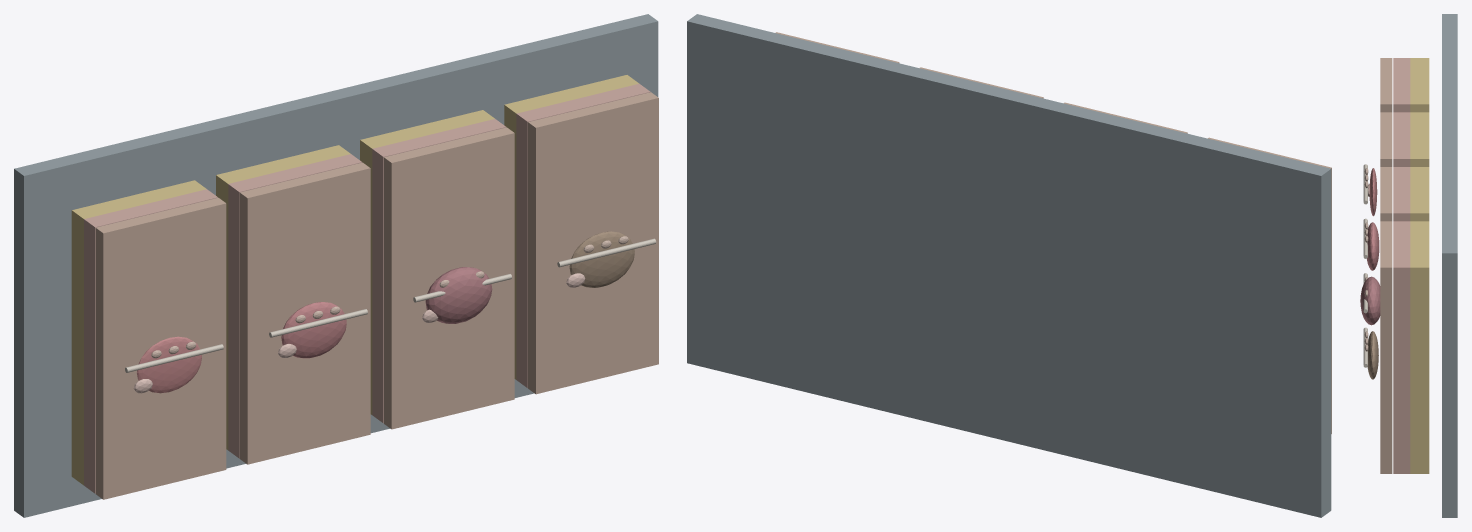
Rendered from wound-samples-high.glb.
3 views of the same model, side by side, from view 1: azimuth 30°, elevation 25°; view 2: azimuth 150°, elevation 25°; view 3: azimuth 270°, elevation 25° (orthographic). The views are drawn at different scales.
Parts seen in each view (by area): view 1: sample_board, skin_sample_1, skin_sample_2, skin_sample_4, skin_sample_3, hypodermis_layer_1, dermis_layer_1, dermis_layer_3, dermis_layer_4, dermis_layer_2, visual_change_3, hypodermis_layer_4 (+5 smaller); view 2: sample_board; view 3: sample_board, hypodermis_layer_4, dermis_layer_4, skin_sample_4, hypodermis_layer_2, hypodermis_layer_1, hypodermis_layer_3, dermis_layer_2, dermis_layer_1, dermis_layer_3, visual_change_3, skin_sample_2 (+8 smaller).
Boxes of the visible parts, x1,y1,x2,y2 form: sample_board: (14,14,658,517); skin_sample_1: (95,197,226,499); skin_sample_2: (239,162,370,464); skin_sample_4: (528,92,658,394); skin_sample_3: (384,127,514,429); hypodermis_layer_1: (71,180,206,485); dermis_layer_1: (84,189,217,493); dermis_layer_3: (372,119,506,423); dermis_layer_4: (516,83,650,388); dermis_layer_2: (228,154,362,458); visual_change_3: (425,267,492,323); hypodermis_layer_4: (504,75,638,379); sample_board: (687,14,1331,517); sample_board: (1442,14,1457,517); hypodermis_layer_4: (1410,221,1429,473); dermis_layer_4: (1393,221,1410,473); skin_sample_4: (1380,221,1392,473); hypodermis_layer_2: (1410,112,1429,166); hypodermis_layer_1: (1410,58,1429,112); hypodermis_layer_3: (1410,167,1429,221); dermis_layer_2: (1393,112,1410,166); dermis_layer_1: (1393,58,1410,112); dermis_layer_3: (1393,167,1410,221); visual_change_3: (1360,276,1380,325); skin_sample_2: (1380,112,1392,166).
Size of the model in its own units: 6.6 by 3.4 by 1.13.
